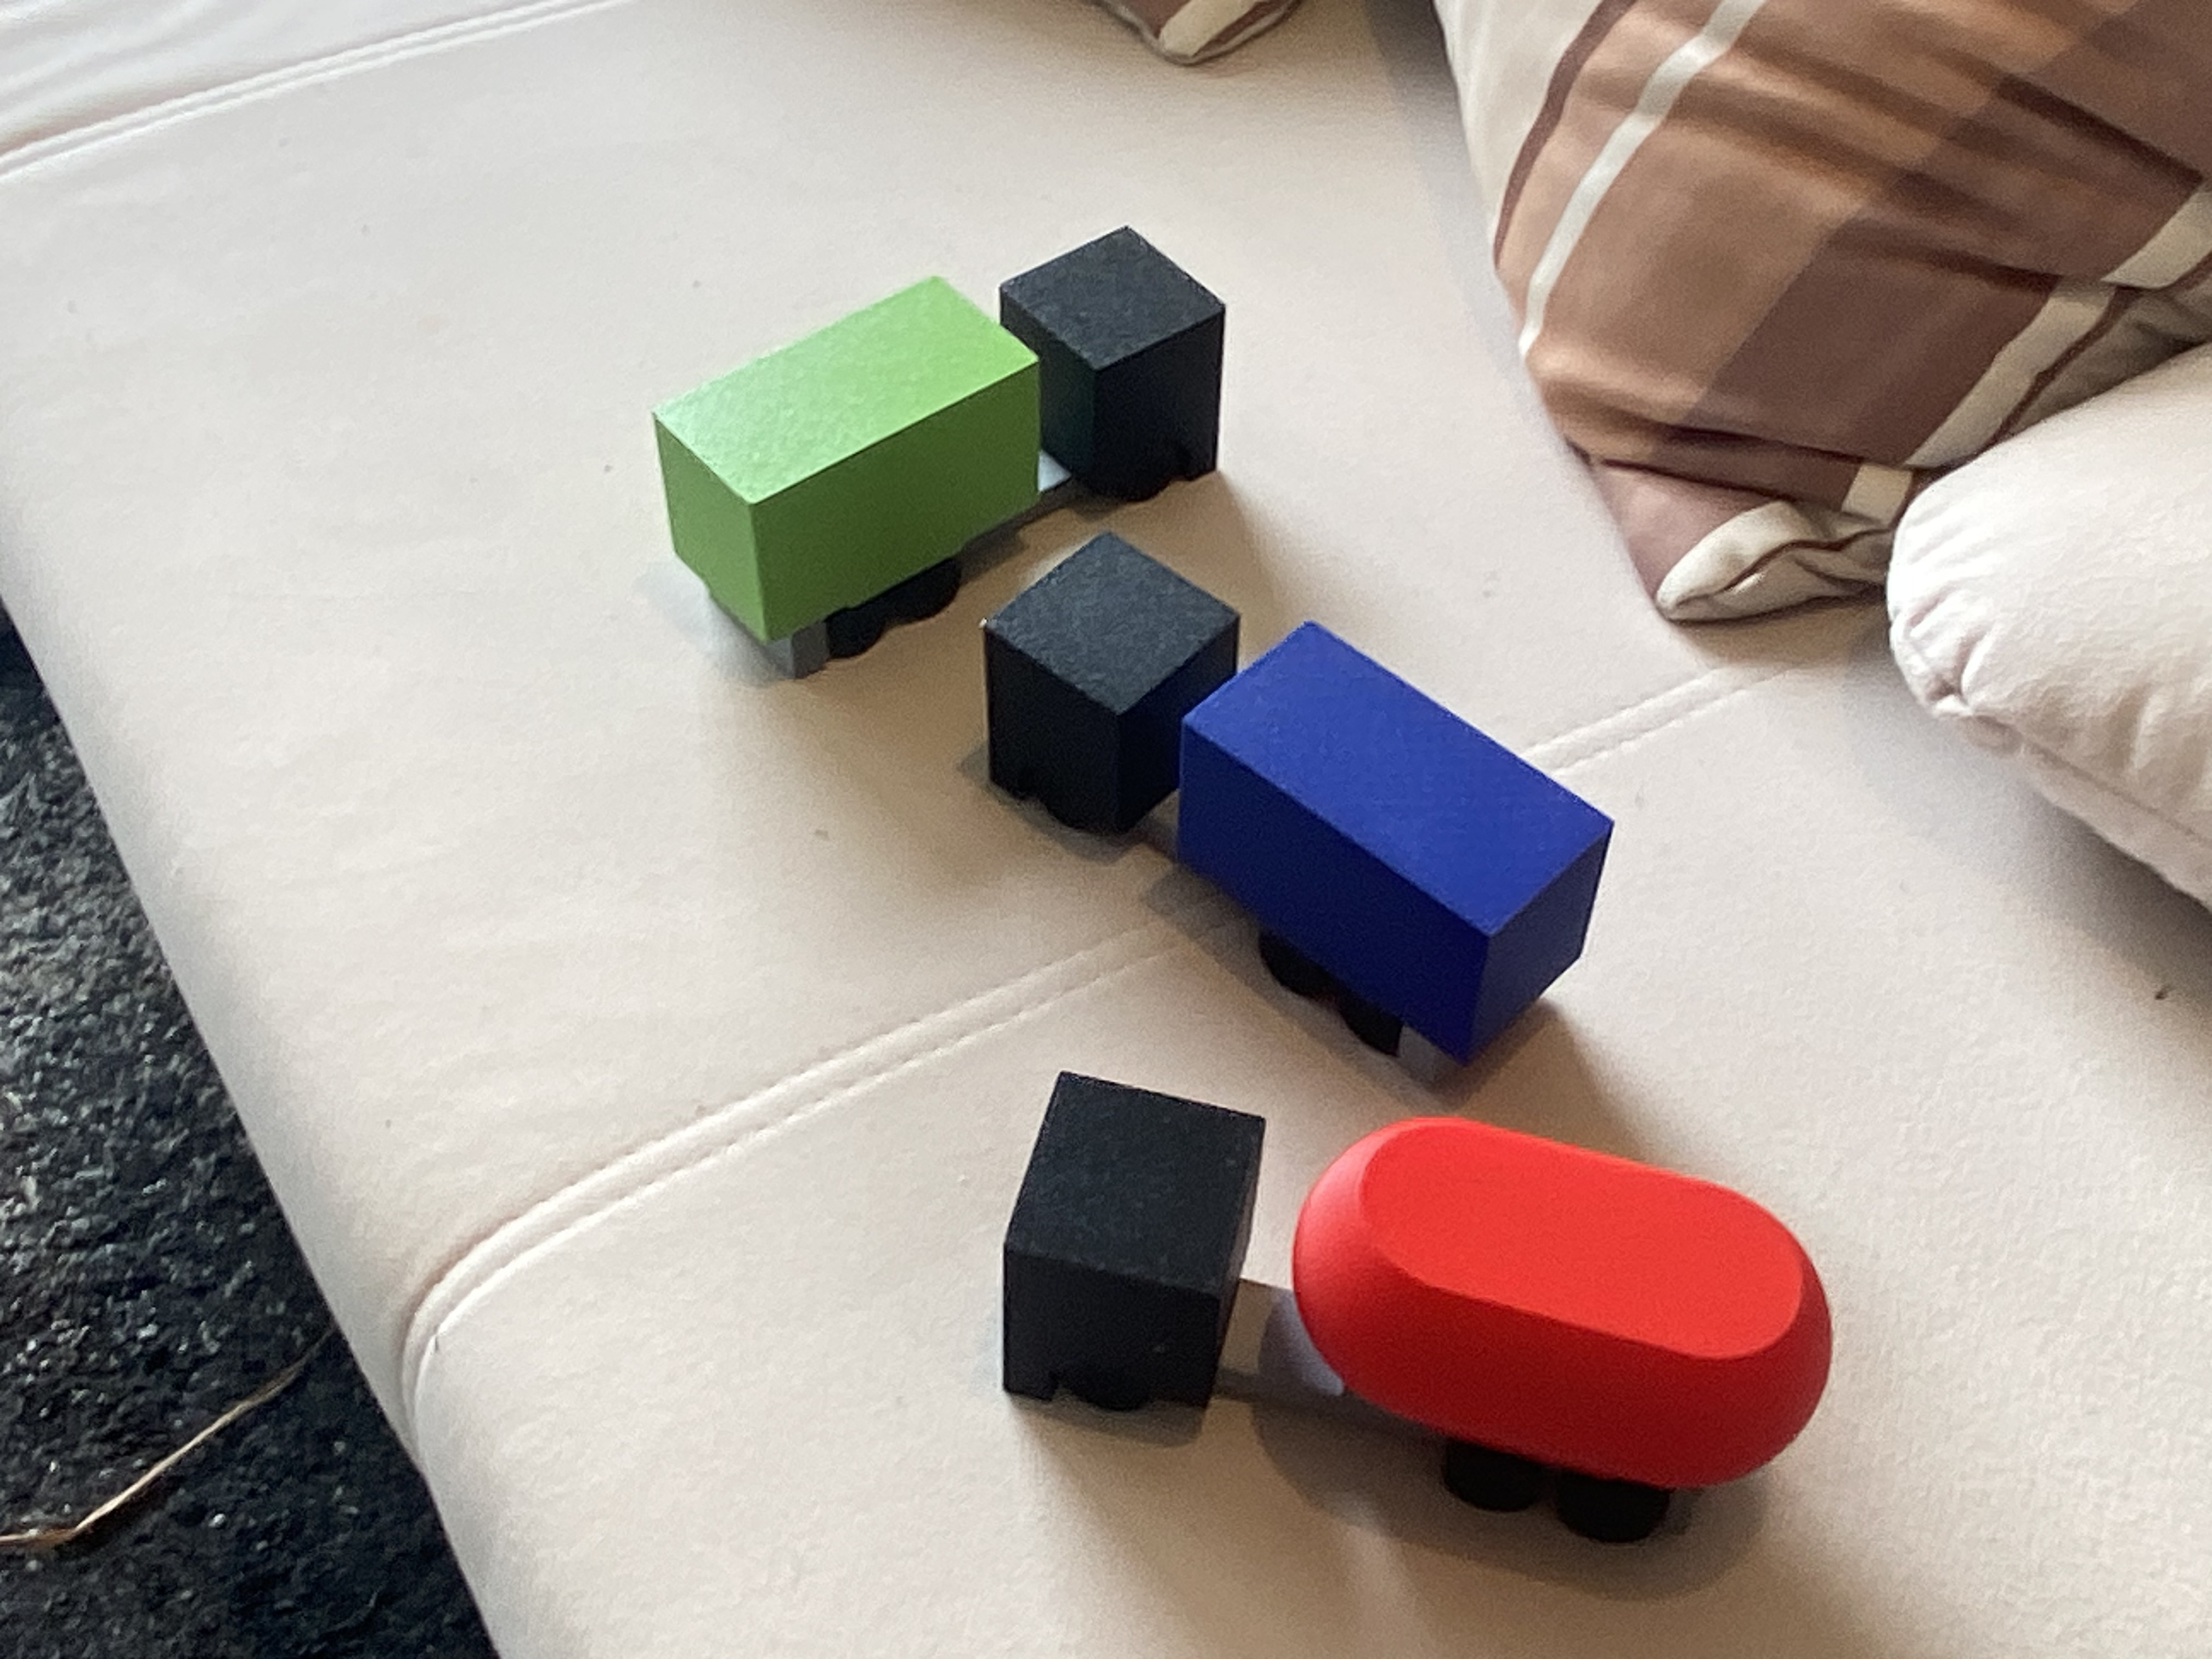blue_truck: (951, 627, 1634, 950)
green_truck: (798, 124, 1108, 737)
red_truck: (1003, 1112, 1831, 1511)
